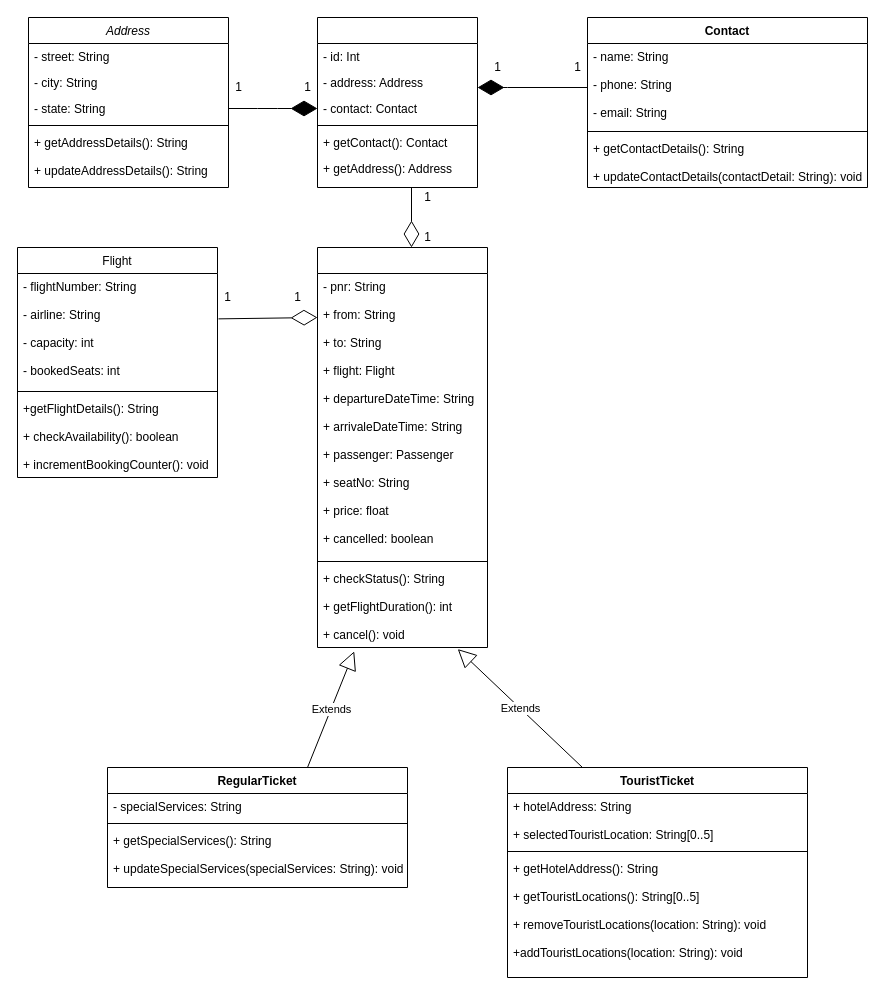
This 885x998 diagram has some shape labels left out. The shapes that lost their labels are listed below. From the top down, each one's box as (x1, y1, x2, y2) in pixels, then its label:
(316, 16, 478, 188): Passenger
(316, 246, 488, 648): Ticket
